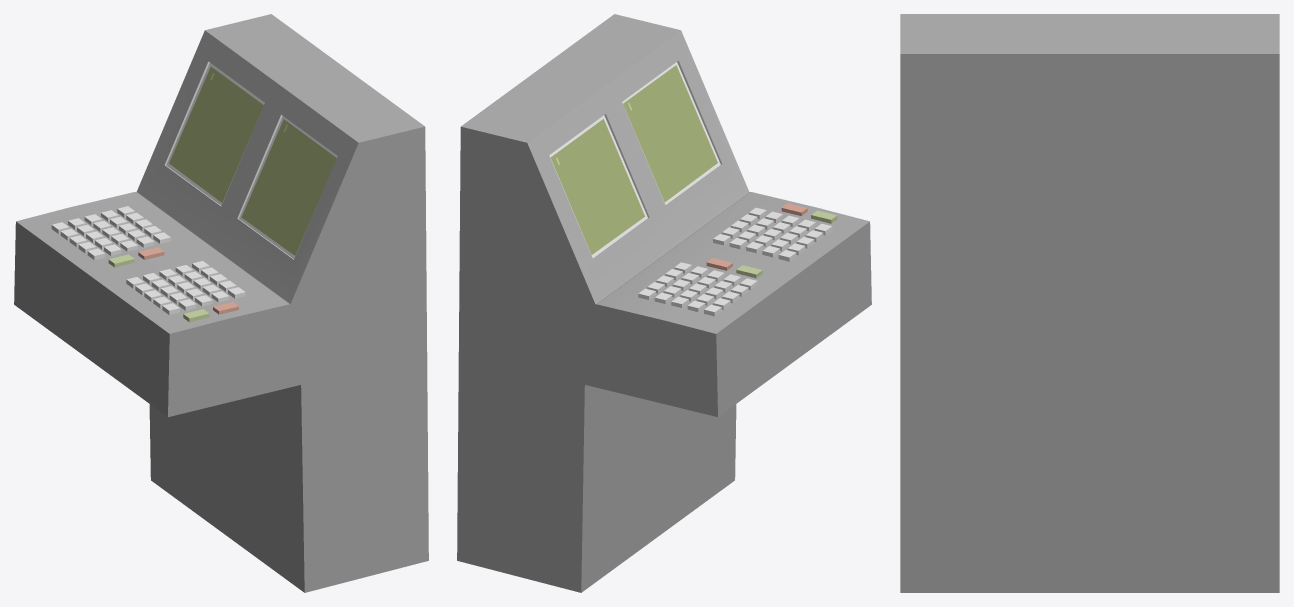
Rendered from terminal.fbx.
3 renders of one model, left to right at view 1: azimuth 30°, elevation 25°; view 2: azimuth 150°, elevation 25°; view 3: azimuth 270°, elevation 25°, orthographic. The views are drawn at different scales.
Visible parts, largest first — view 1: Cube_1; view 2: Cube_1; view 3: Cube_1.
Part boxes in pixels (left/top/right/bottom): Cube_1: left=14, top=14, right=428, bottom=592; Cube_1: left=457, top=14, right=871, bottom=592; Cube_1: left=900, top=14, right=1279, bottom=592.
Bounding box in the file's own units: 118 × 188 × 120.
